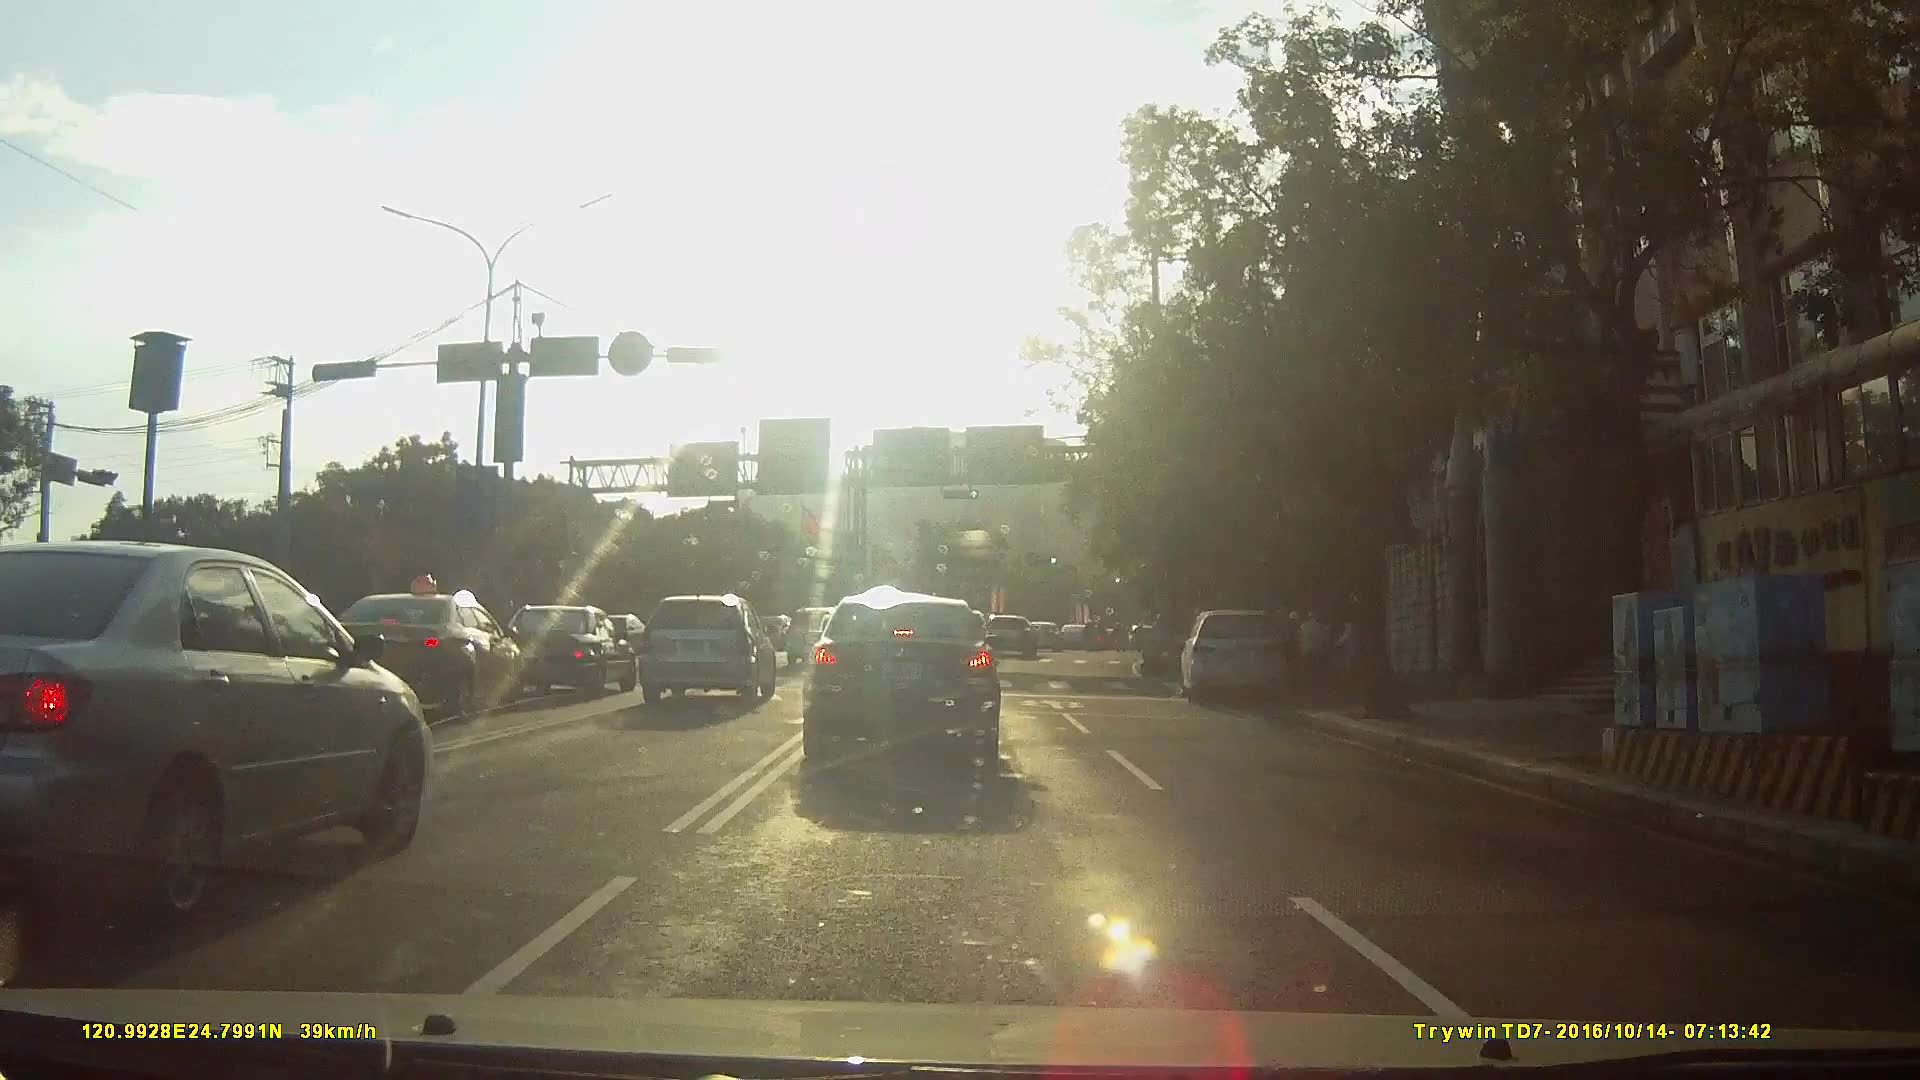pedestrian: (1292, 606, 1334, 671)
rider: (1137, 611, 1188, 683)
vehicle: (0, 531, 431, 925), (800, 595, 1021, 789), (295, 587, 508, 720), (634, 589, 776, 704), (474, 602, 623, 698), (1178, 601, 1308, 703), (787, 602, 848, 666), (983, 610, 1041, 656), (1030, 618, 1069, 650), (1059, 618, 1100, 646)
